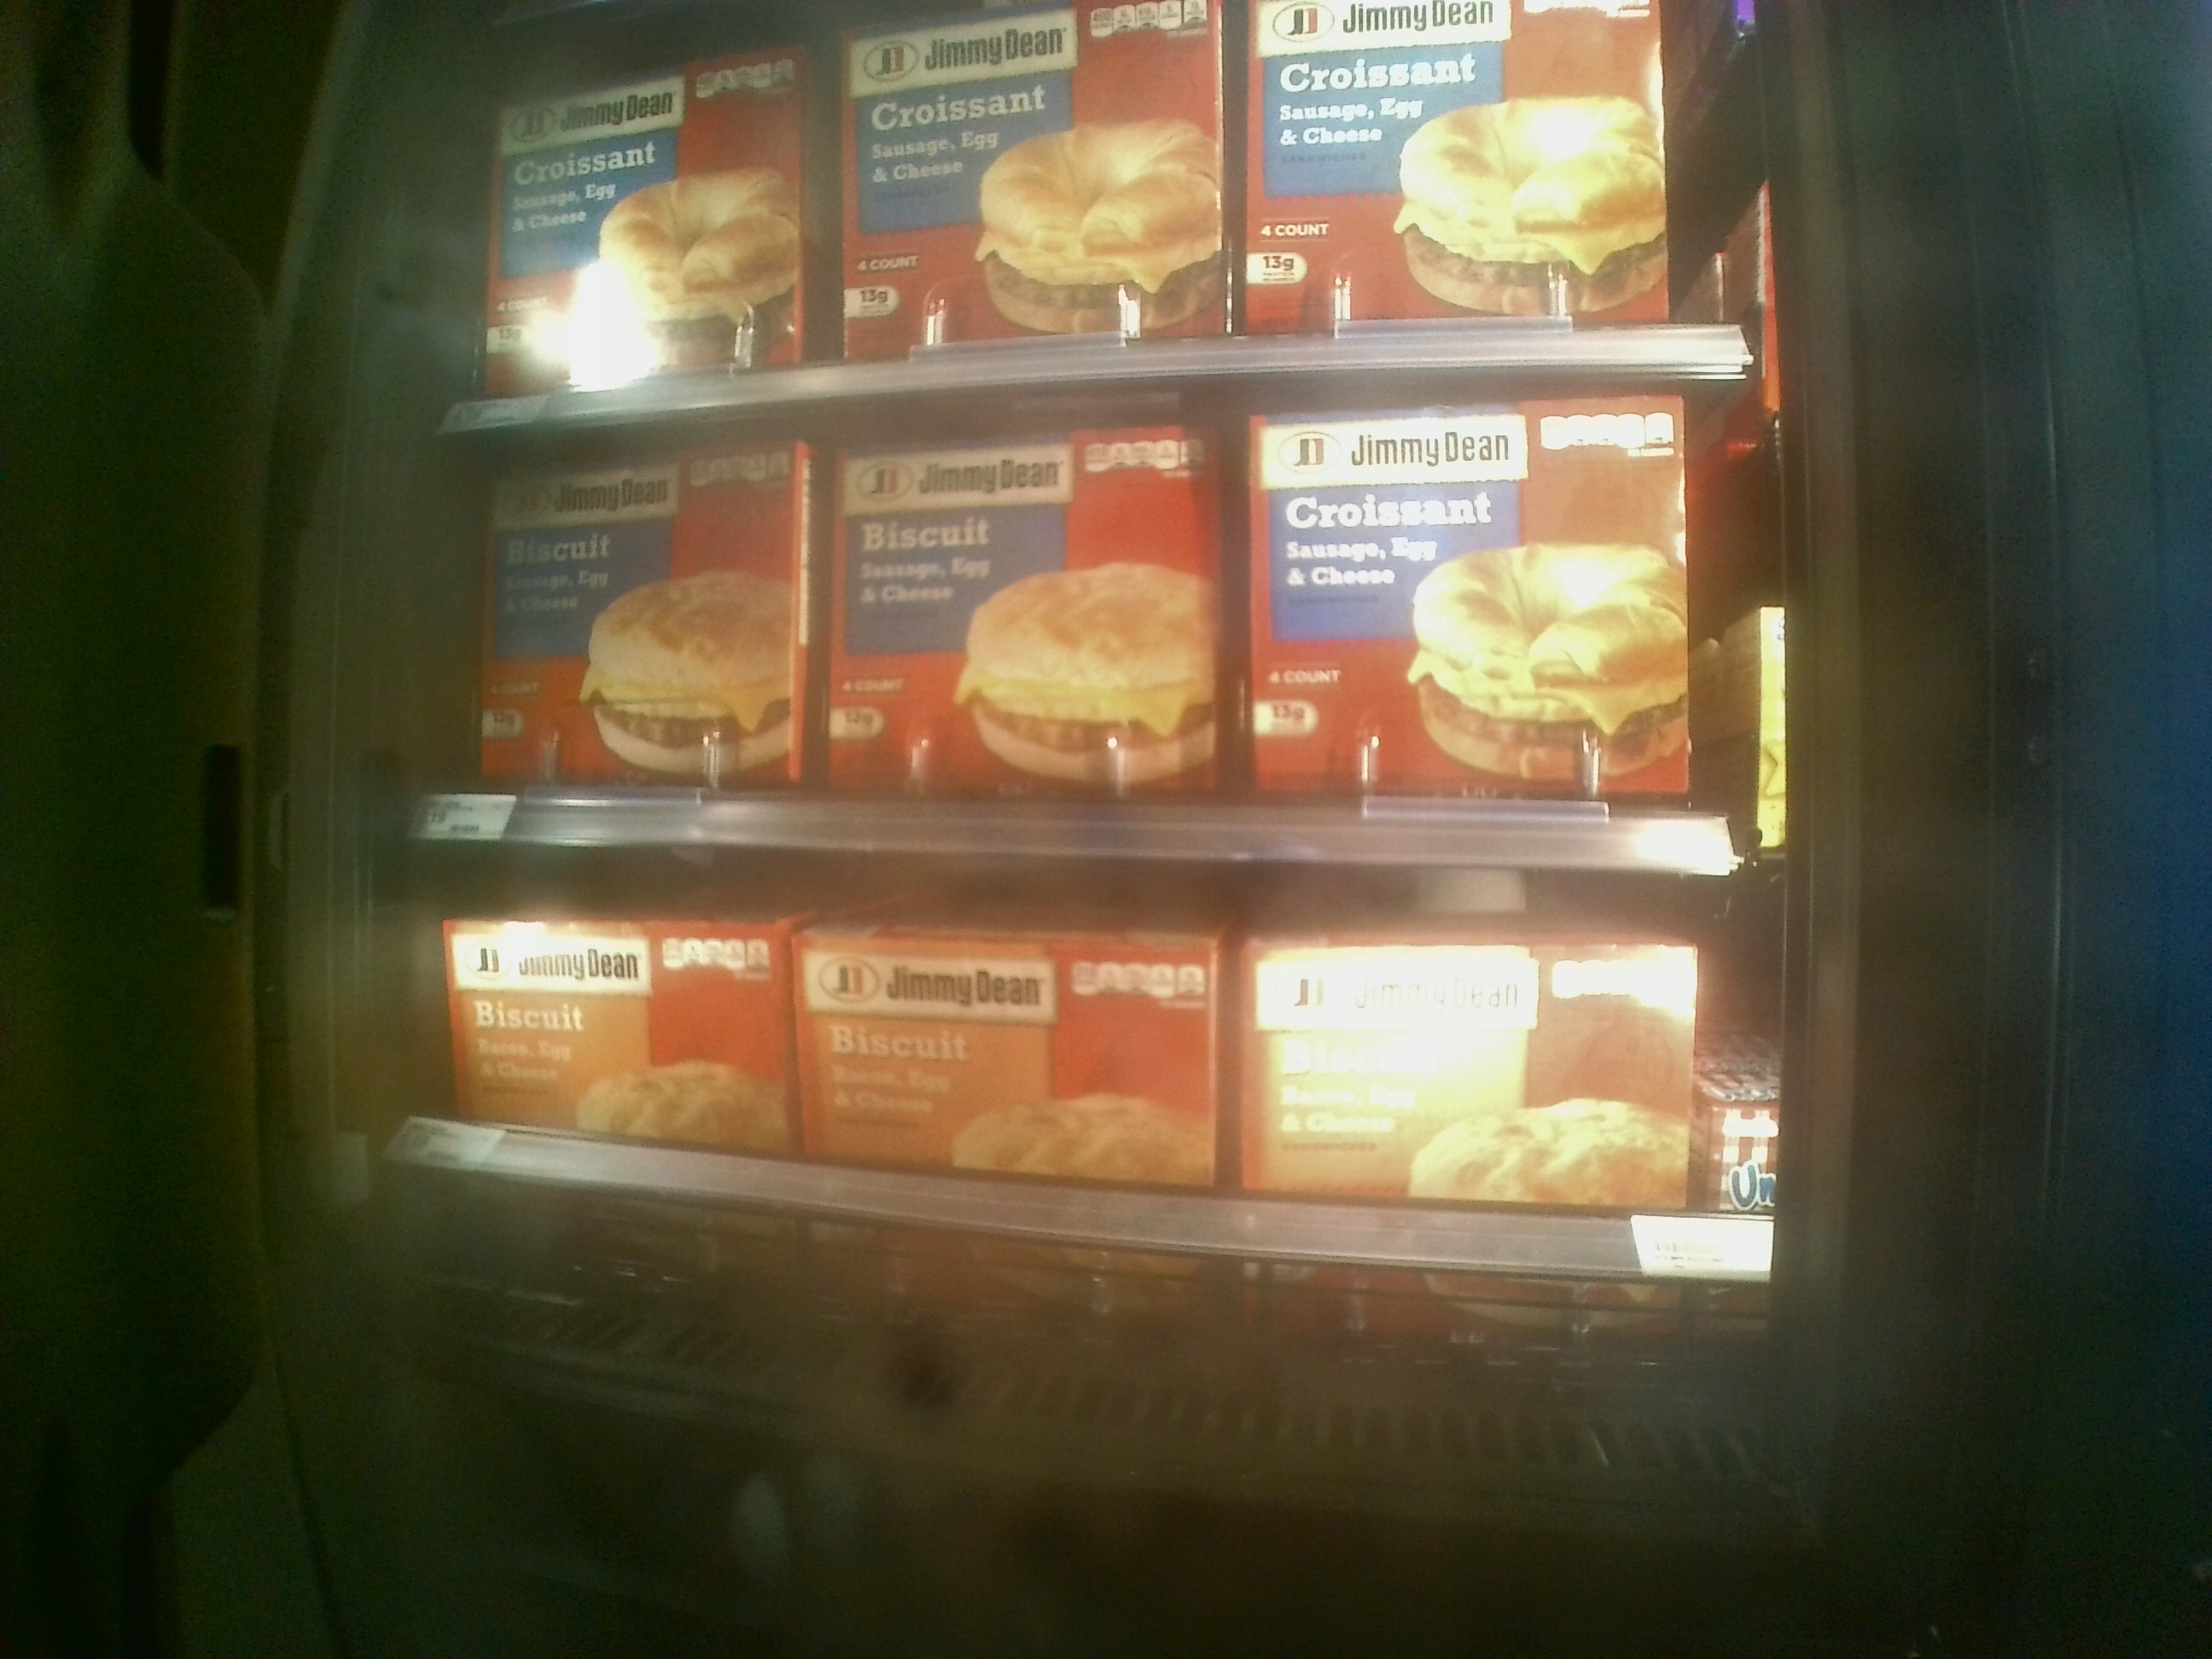shelf: (415, 836, 1792, 1382), (425, 368, 1771, 870)
